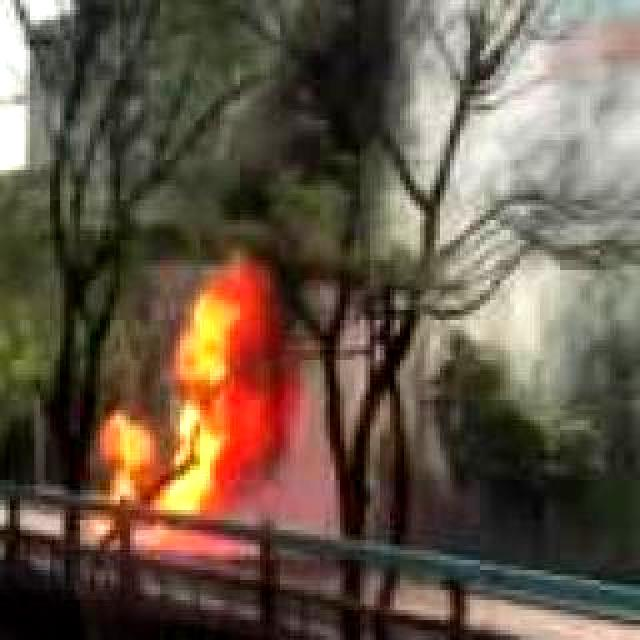fire: (150, 306, 280, 530), (102, 412, 134, 546)
